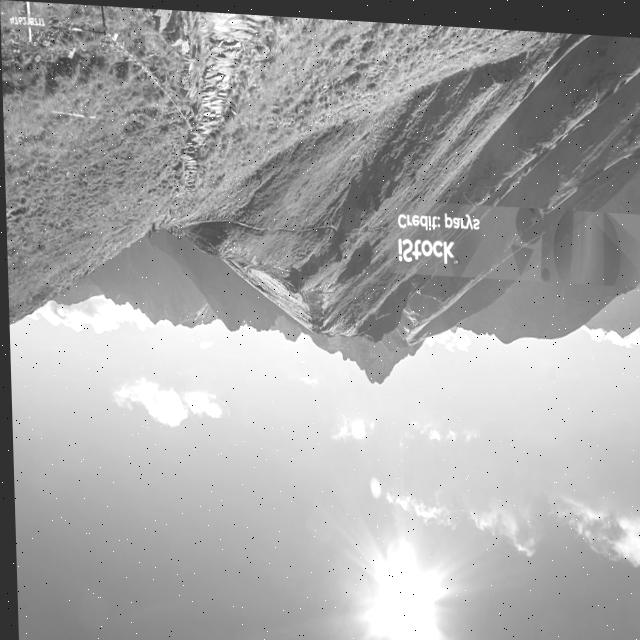Kasprowy Wierch: (348, 309, 404, 377)
Koscielec: (207, 294, 261, 365)
Kozi Wierch: (271, 314, 315, 371)
Skrajny i Posredni Granat: (117, 273, 211, 364)
Swinica: (337, 336, 416, 427)
